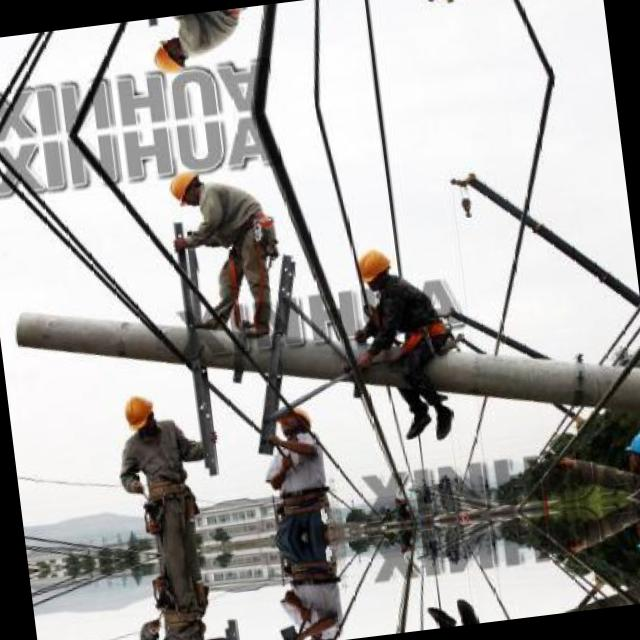helmet: (350, 241, 398, 292), (116, 389, 158, 438), (163, 164, 210, 207), (148, 36, 195, 79), (272, 401, 316, 441), (620, 420, 640, 485), (630, 502, 640, 567), (300, 628, 342, 640)
